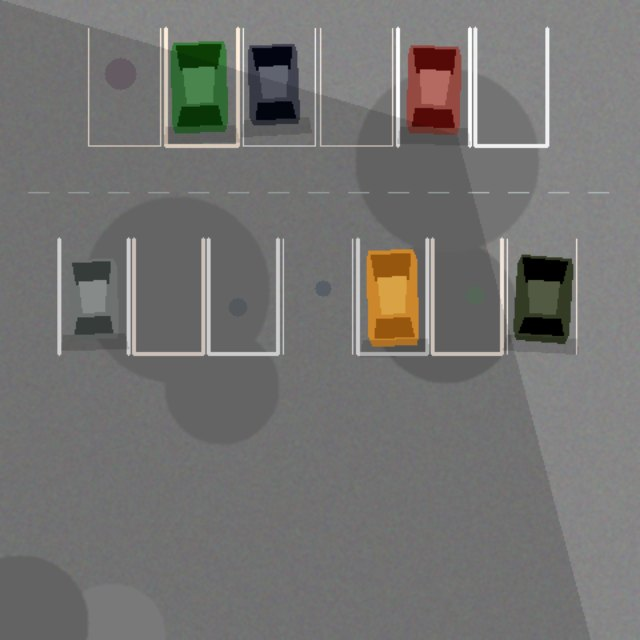space-empty: (88, 28, 160, 145), (320, 28, 392, 145), (475, 28, 547, 145), (133, 239, 203, 353), (208, 239, 277, 353), (283, 239, 352, 353), (432, 239, 501, 353)
space-occupied: (165, 28, 237, 145), (243, 28, 315, 145), (397, 28, 469, 145), (357, 239, 427, 353), (59, 239, 128, 353), (507, 239, 576, 353)
